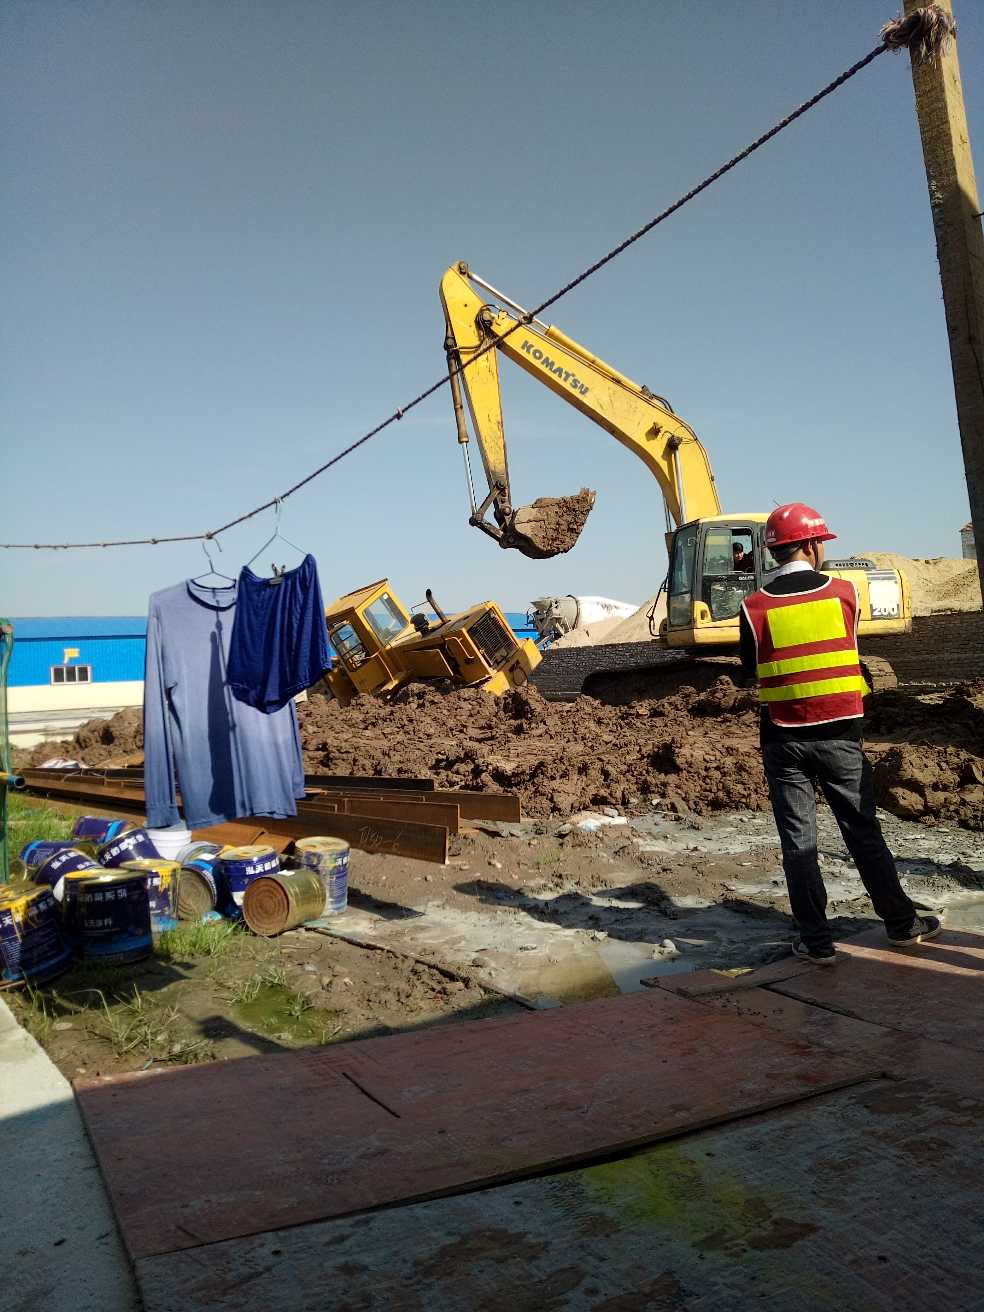excavator: (407, 235, 911, 715)
